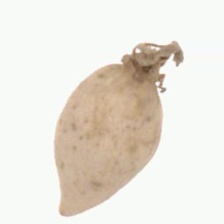L1: (119, 46, 168, 92), (57, 200, 84, 217)
L2: (54, 47, 172, 216)
